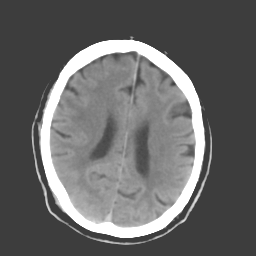ischemic: (68, 102, 100, 150)
